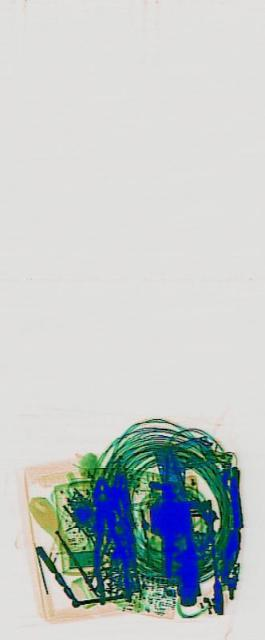Pliers: (83, 466, 130, 620)
